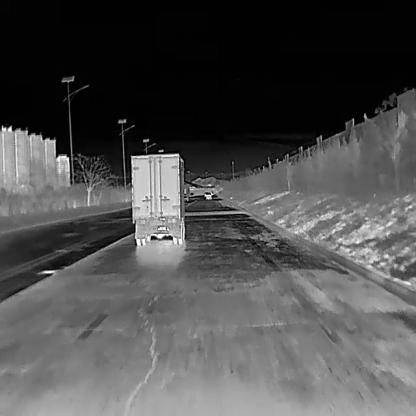car: (205, 190, 211, 199), (188, 191, 194, 196)
truck: (129, 152, 188, 245)
